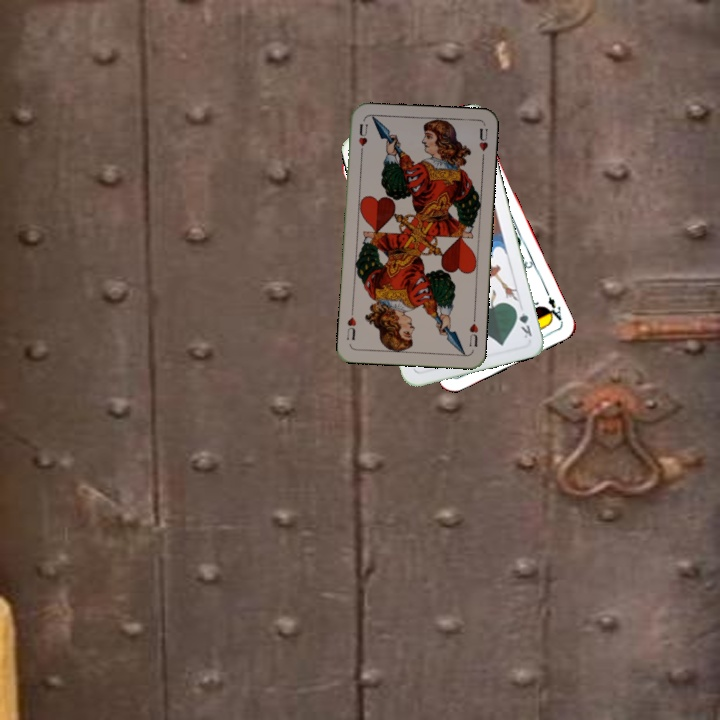EA: (541, 287, 565, 325)
GK: (511, 303, 535, 341)
HU: (465, 312, 481, 349), (355, 120, 370, 158)
